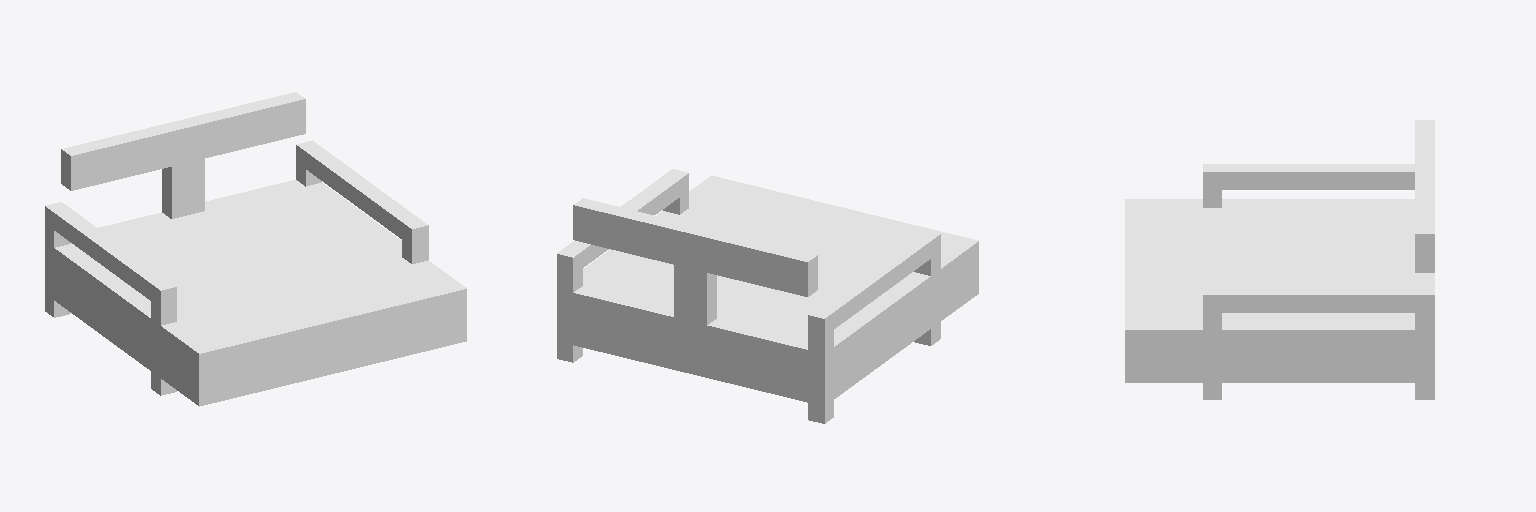
Rendered from chair1.obj.
The picture shows the model from 3 angles: view 1: azimuth 30°, elevation 25°; view 2: azimuth 150°, elevation 25°; view 3: azimuth 270°, elevation 25°; orthographic projection.
Size of the model in its own units: 0.8 by 0.45 by 0.8.